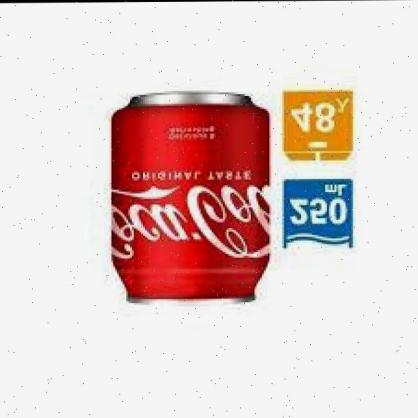can: (107, 90, 272, 308)
